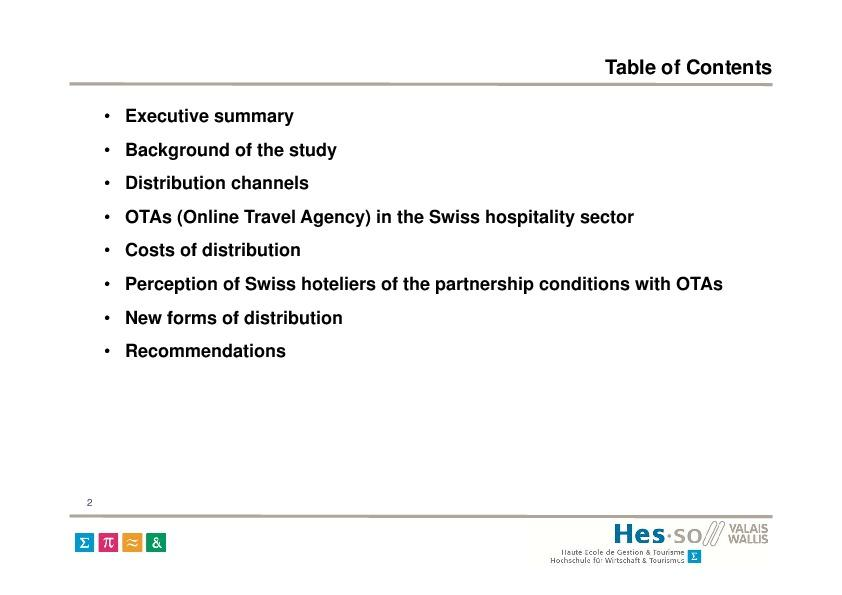paragraph: (88, 94, 772, 385)
title: (598, 45, 779, 79)
